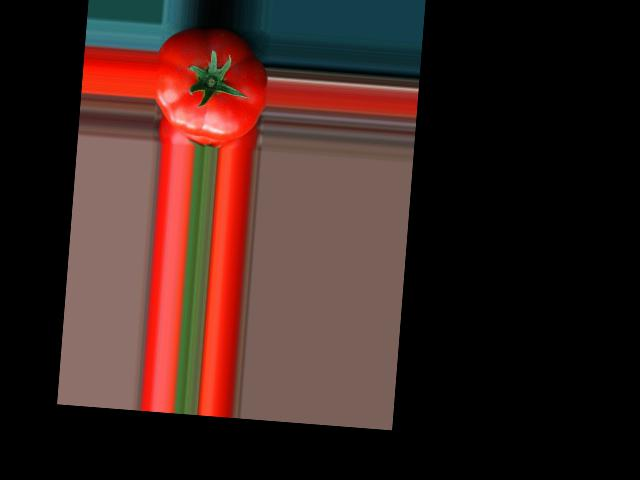tomato: (152, 24, 272, 143)
